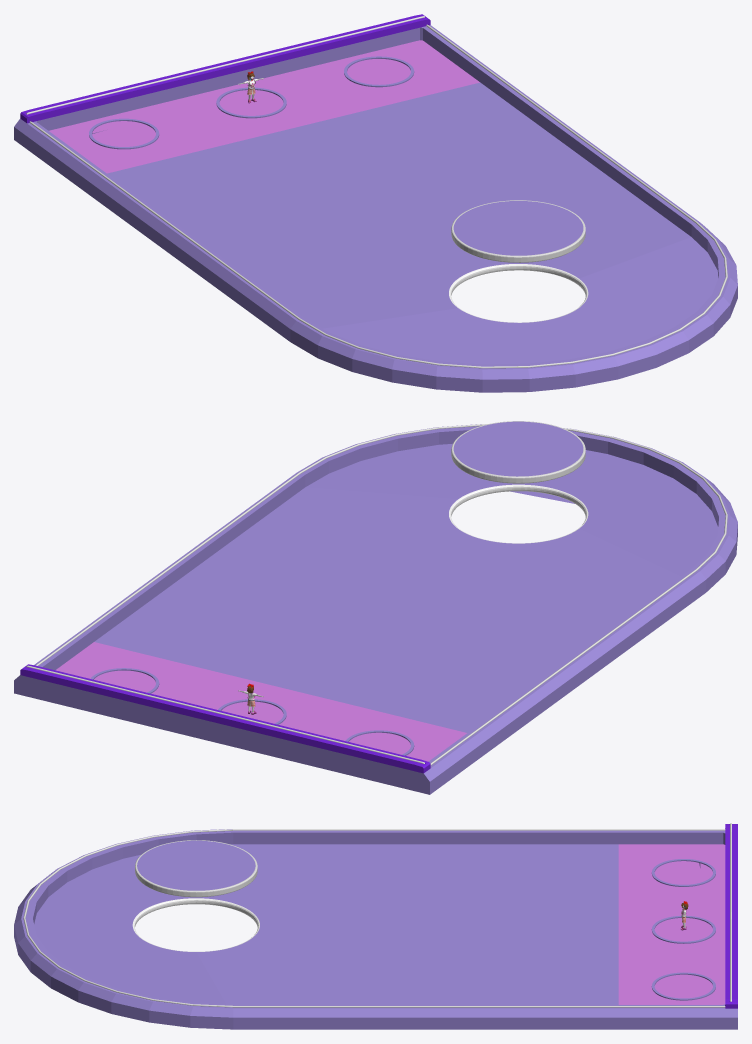
The model's file is Platform_Deneme2.fbx.
The picture shows the model from 3 angles, top to bottom: view 1: azimuth 30°, elevation 25°; view 2: azimuth 150°, elevation 25°; view 3: azimuth 270°, elevation 25°; orthographic projection. The views are drawn at different scales.
Visible parts, largest first — view 1: Base_Mesh, Base_Mesh_Hole, Circle; view 2: Base_Mesh, Base_Mesh_Hole, Circle; view 3: Base_Mesh, Base_Mesh_Hole, Circle.
Boxes of the visible parts, left/top/right/bottom form: Base_Mesh: left=14, top=14, right=737, bottom=392; Base_Mesh_Hole: left=451, top=200, right=585, bottom=262; Circle: left=26, top=16, right=727, bottom=368; Base_Mesh: left=14, top=424, right=737, bottom=794; Base_Mesh_Hole: left=451, top=421, right=585, bottom=483; Circle: left=26, top=424, right=727, bottom=765; Base_Mesh: left=14, top=824, right=737, bottom=1029; Base_Mesh_Hole: left=135, top=840, right=257, bottom=897; Circle: left=23, top=823, right=731, bottom=1007.
Bounding box in the file's own units: 2773 × 497 × 4579.
